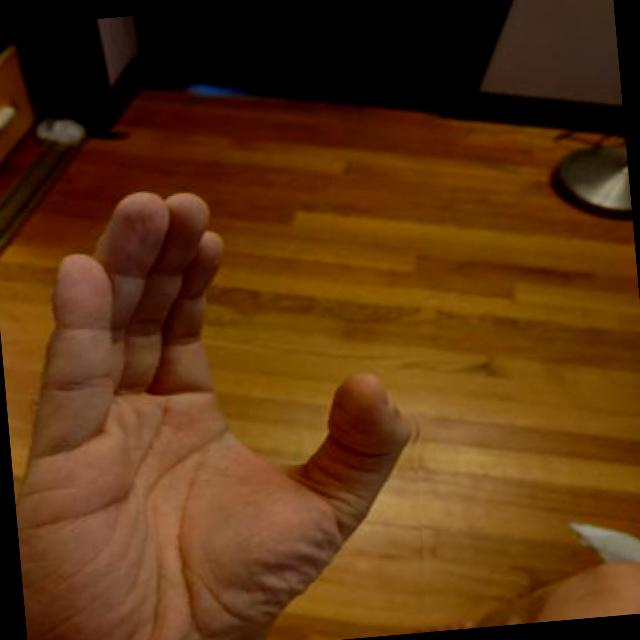C: (0, 158, 441, 640)
